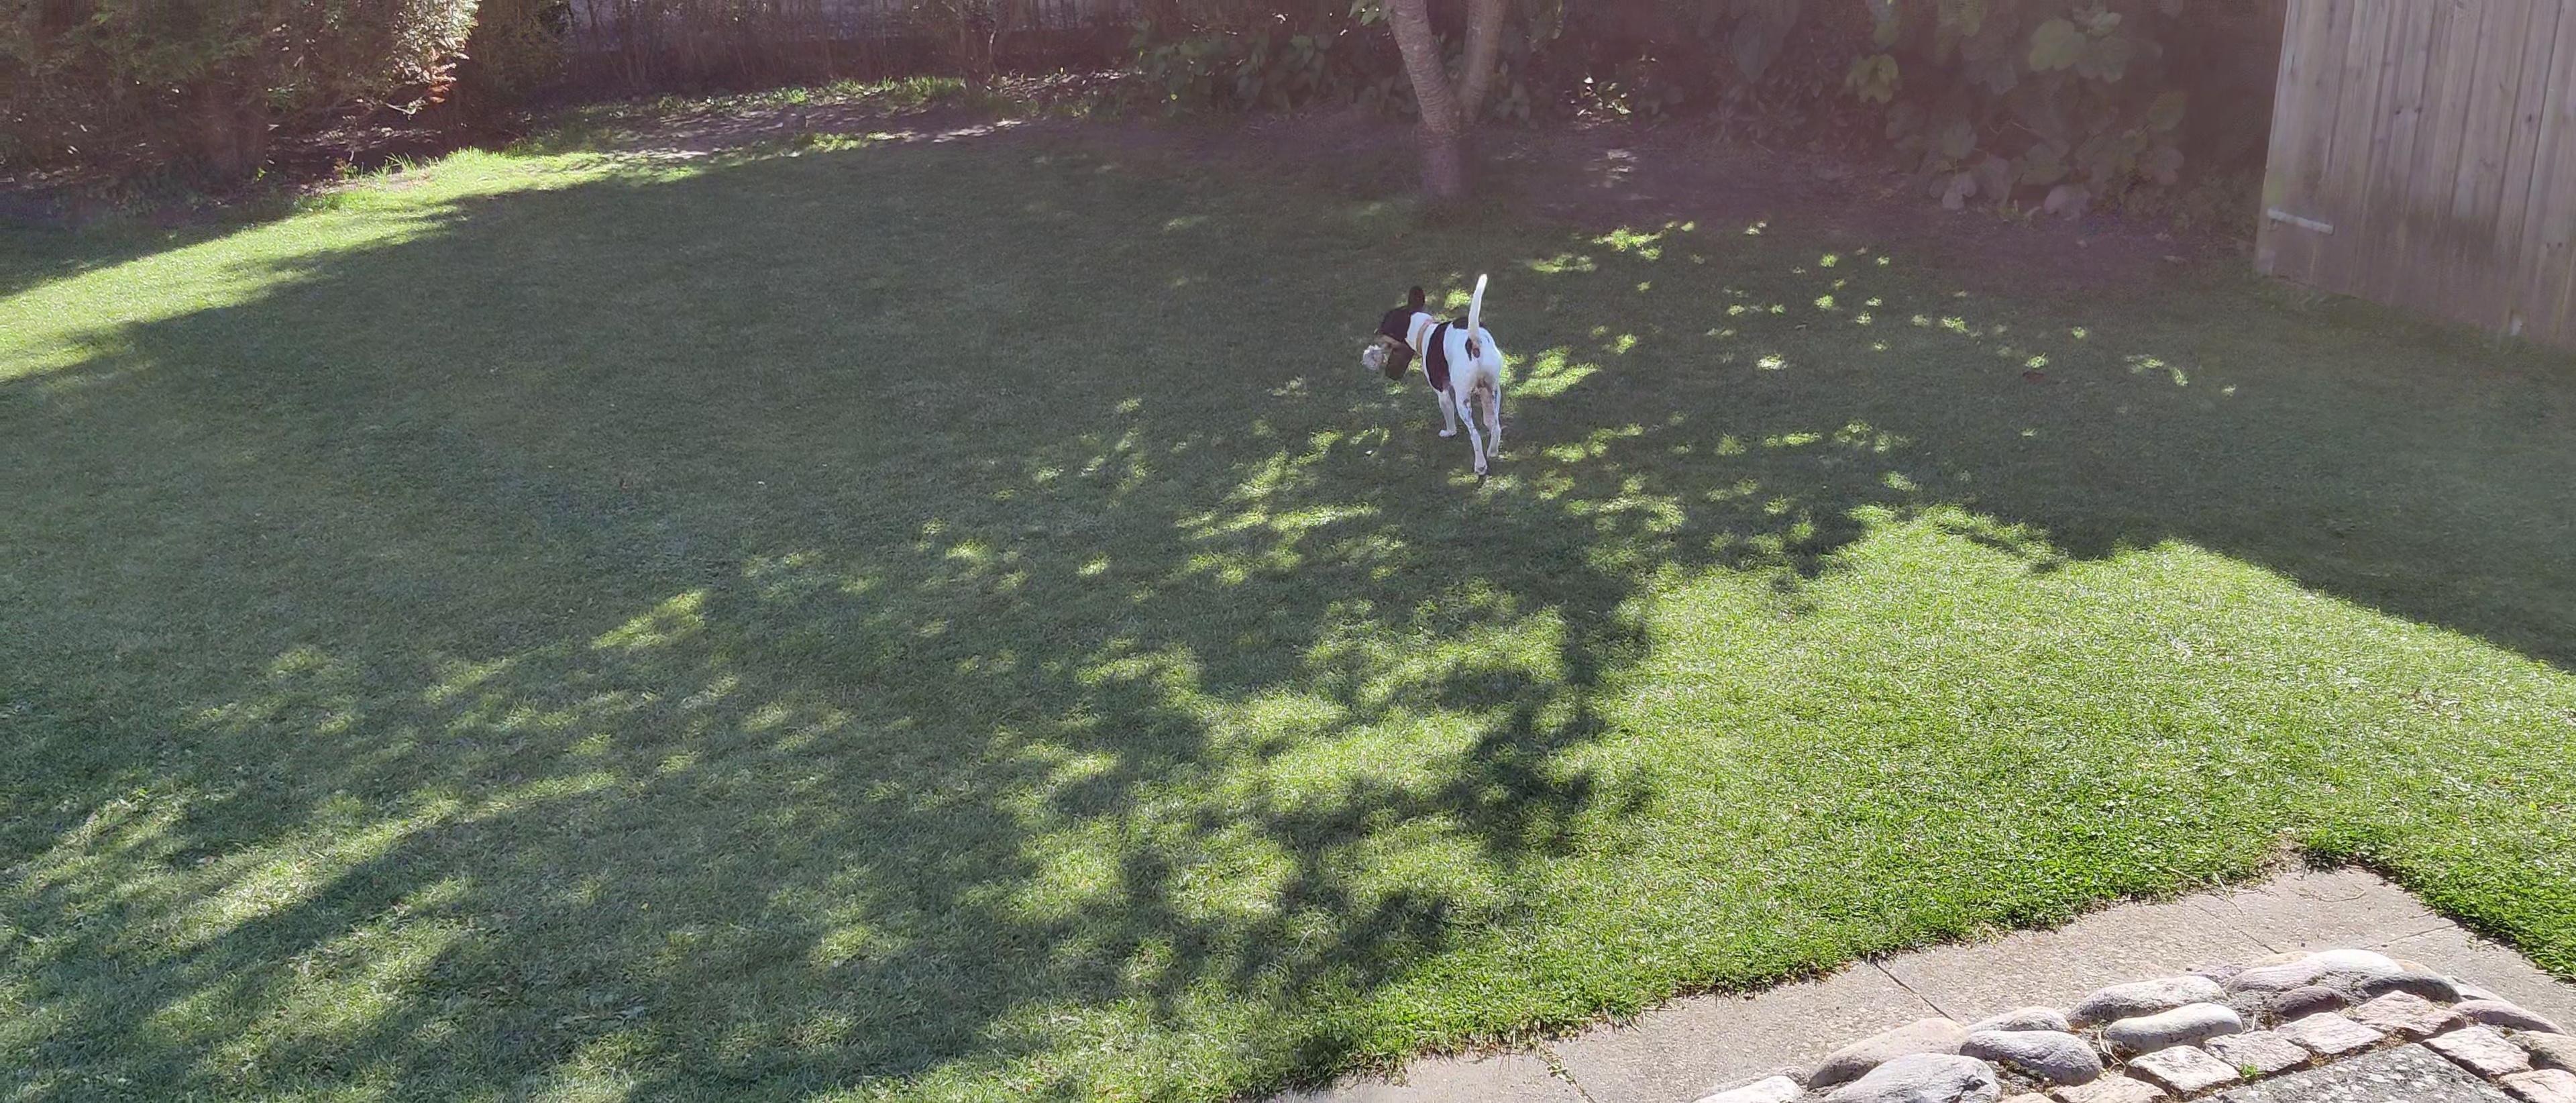Dog: (1362, 256, 1515, 487)
